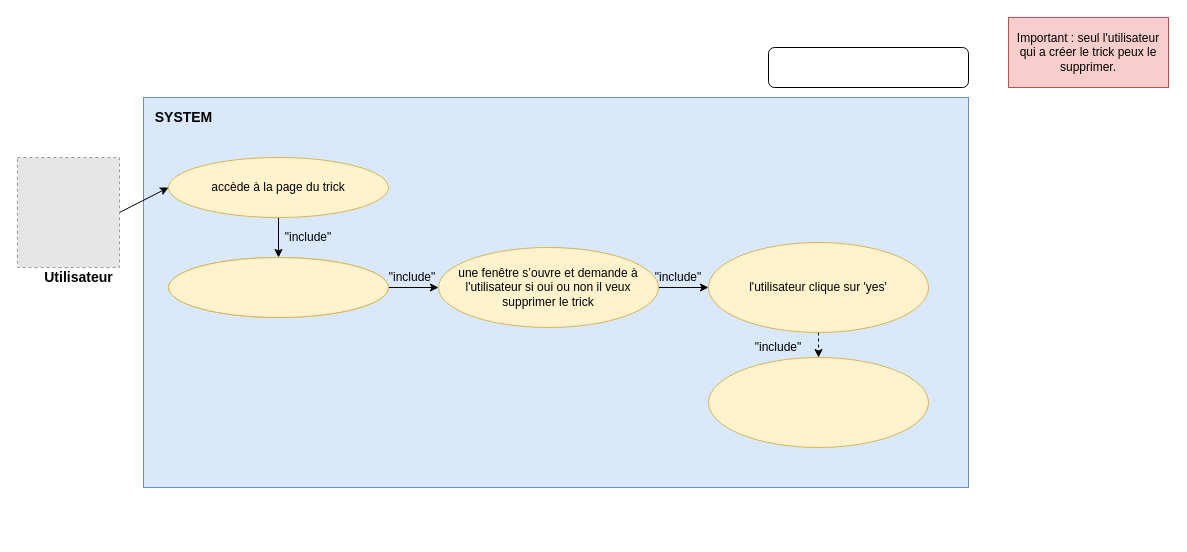
Image size: 1187x552. Some labels were removed from this diagram. Grey dashed boxes stand in for pictures. The shapes that lost their labels are listed below. From the top down, each one's centre as x and y in pixels, then its label:
the point at 868,67: supprimer un trick
the point at 278,287: l'utilisateur clique sur l'icon de suppression du trick
the point at 818,402: le systeme affiche un message de succes "your trick has been removed"
